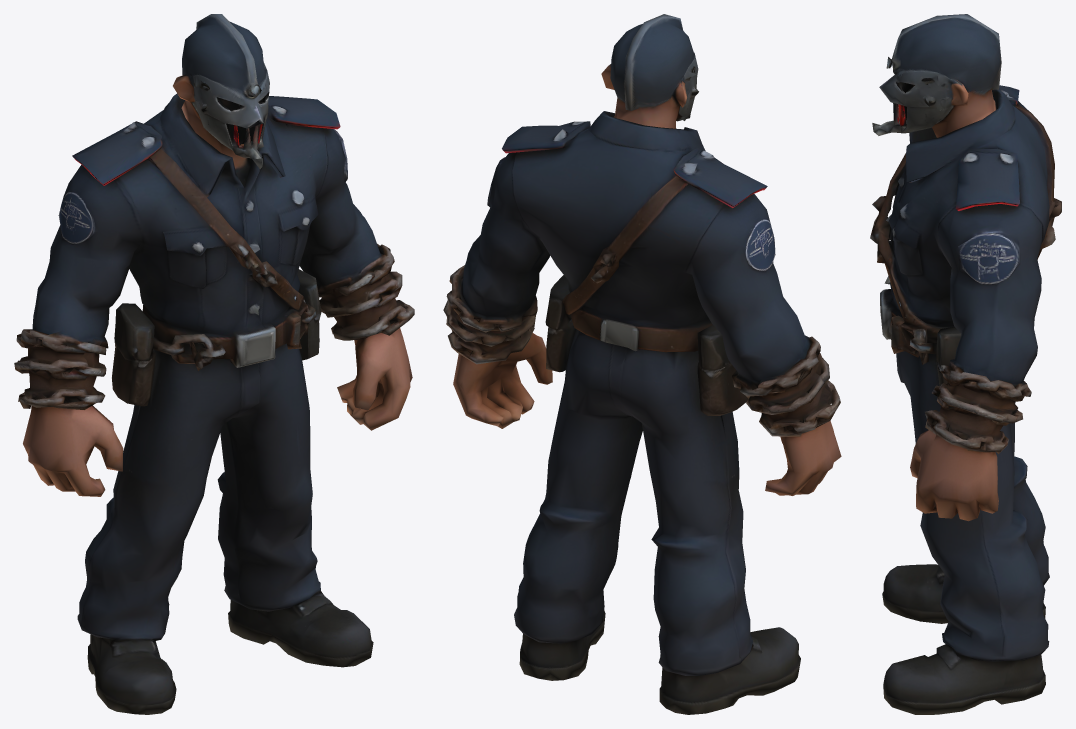
The model's file is lockthroat.glb.
3 renders of one model, left to right at view 1: azimuth 30°, elevation 25°; view 2: azimuth 150°, elevation 25°; view 3: azimuth 270°, elevation 25°, orthographic.
Visible parts, largest first — view 1: tripo_node_d7f952bf-2351-4e80-acce-9ea714c6823d; view 2: tripo_node_d7f952bf-2351-4e80-acce-9ea714c6823d; view 3: tripo_node_d7f952bf-2351-4e80-acce-9ea714c6823d.
Boxes of the visible parts, left/top/right/bottom form: tripo_node_d7f952bf-2351-4e80-acce-9ea714c6823d: left=14, top=14, right=414, bottom=714; tripo_node_d7f952bf-2351-4e80-acce-9ea714c6823d: left=443, top=14, right=841, bottom=714; tripo_node_d7f952bf-2351-4e80-acce-9ea714c6823d: left=870, top=14, right=1061, bottom=714.
Size of the model in its own units: 0.6198 by 1 by 0.2721.
Materials: 1 (1 with a texture image).
